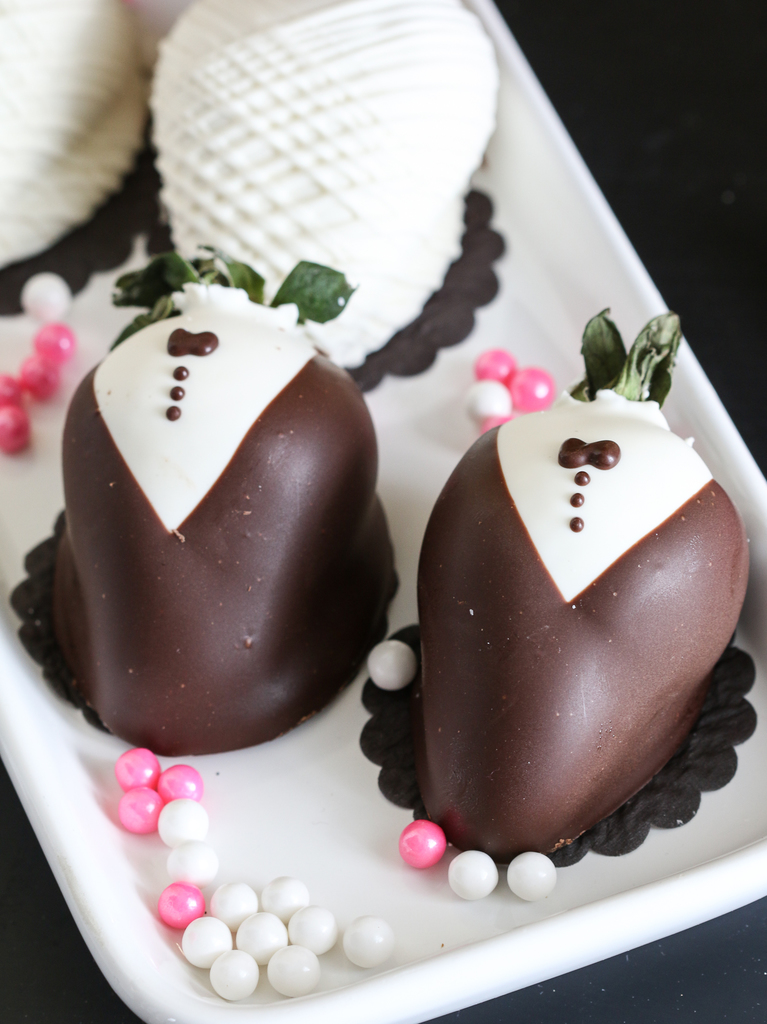cake: (362, 310, 757, 861), (12, 252, 395, 756)
